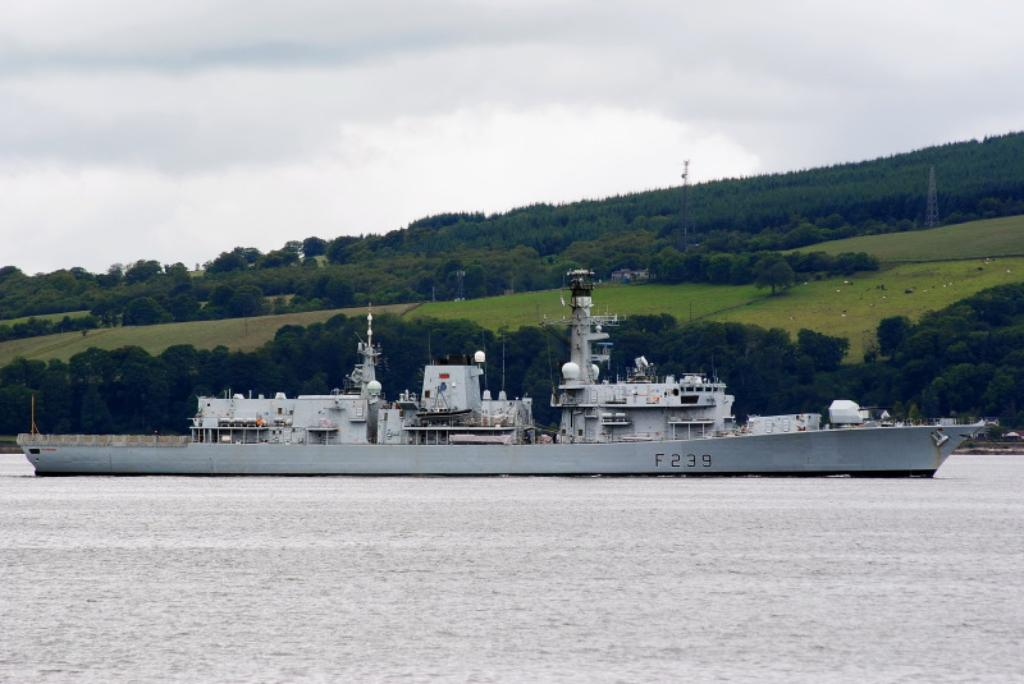Warship: (14, 266, 1000, 484)
